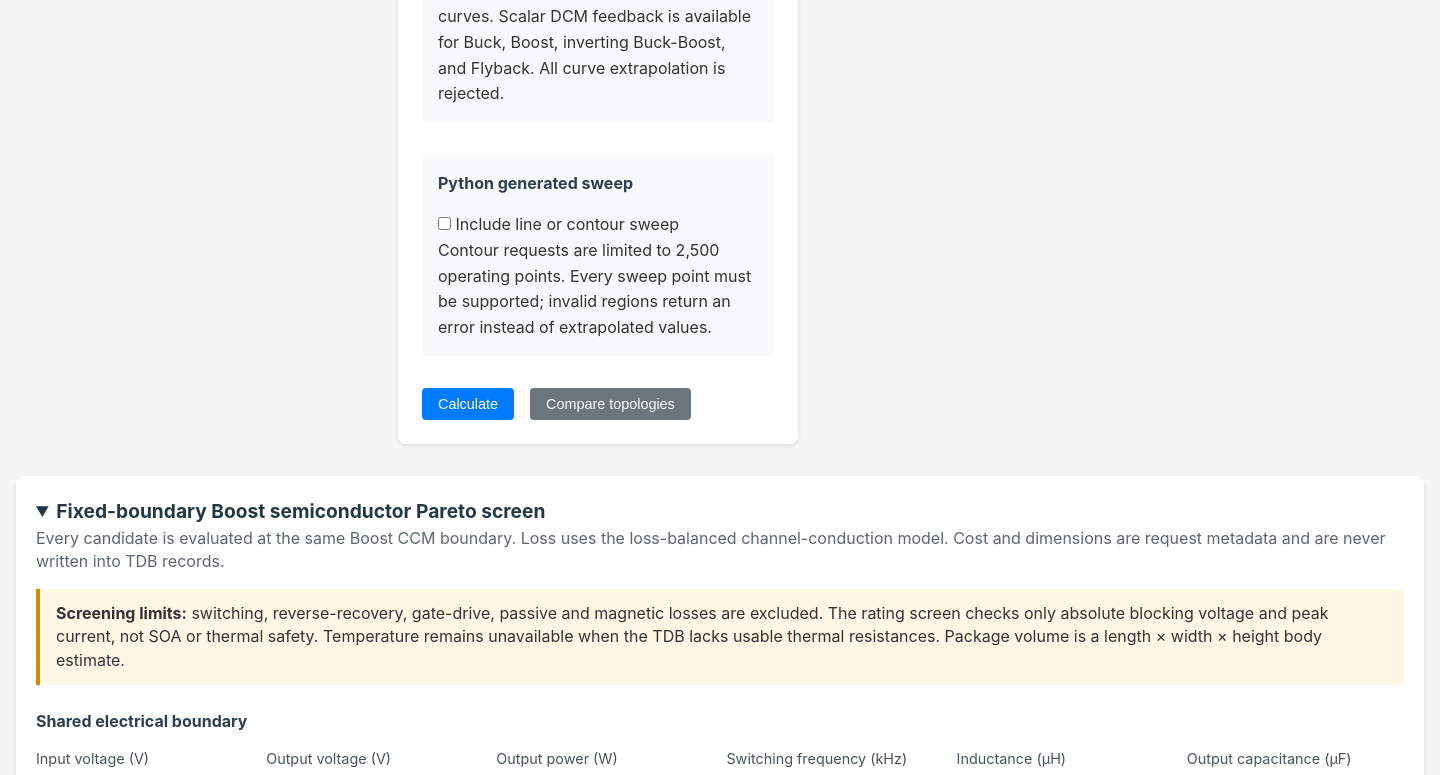
it: TopologyCalculator API workflow › shows backend validation errors instead of stale results
(page scrolled)
Click the button "Calculate". click: (468, 404)
box: x1=422 y1=388 x2=514 y2=420
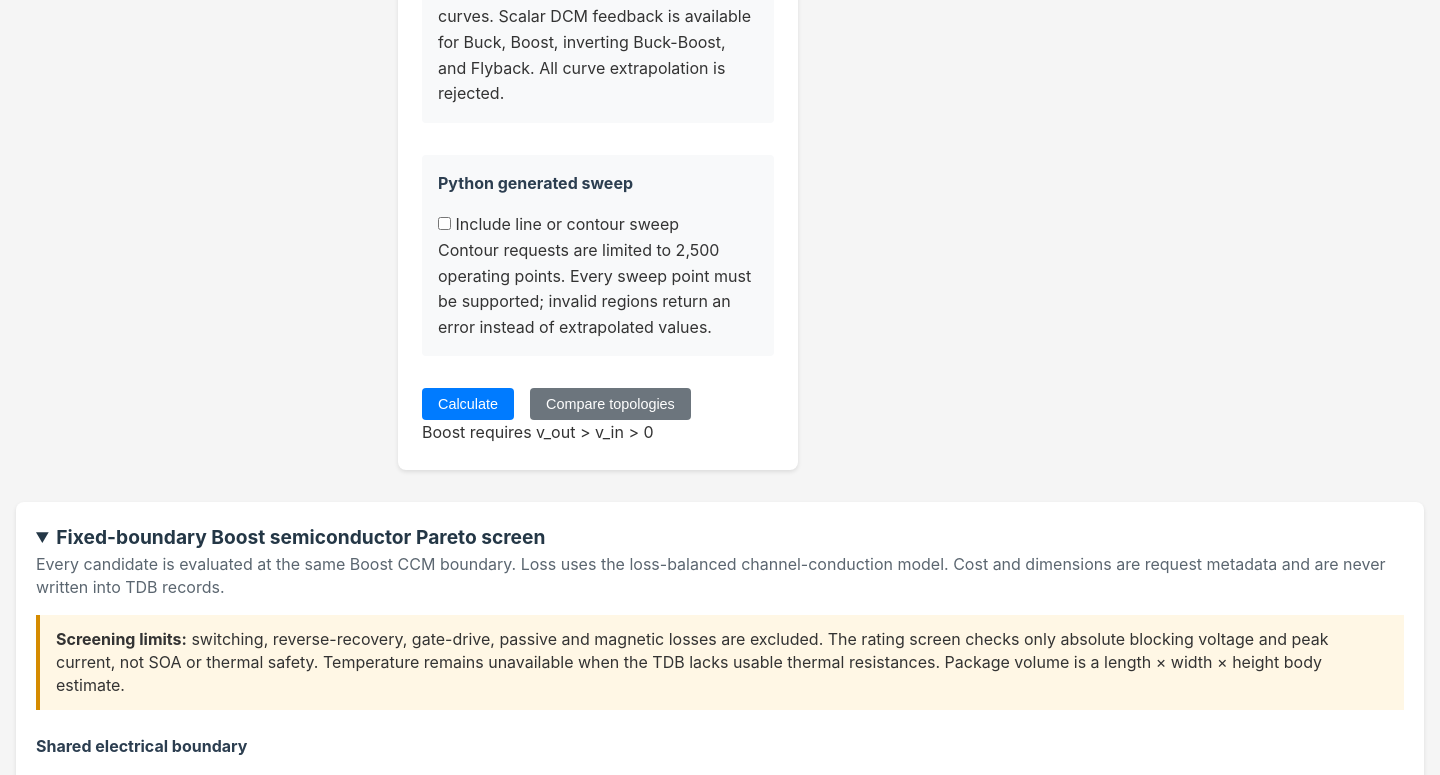
Expected: the message "Boost requires v_out > v_in > 0" is shown, x1=422 y1=422 x2=654 y2=442
